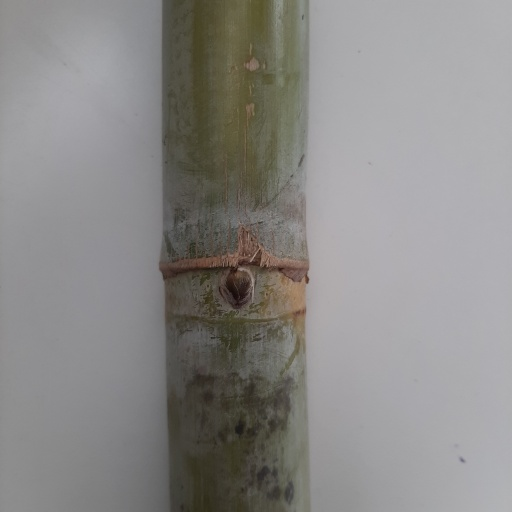Bud: (221, 266, 253, 307)
